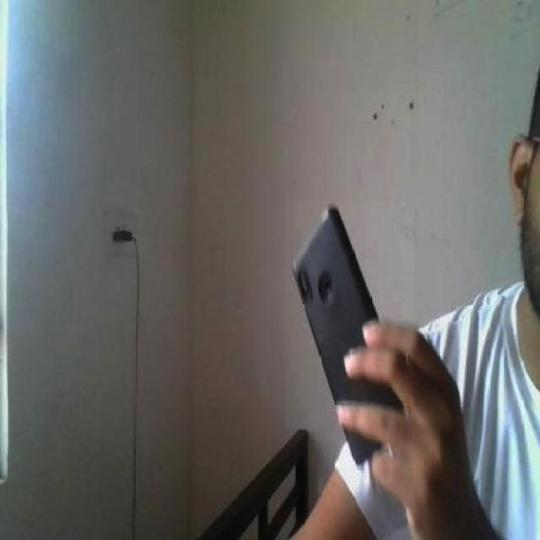phone: (281, 204, 426, 463)
